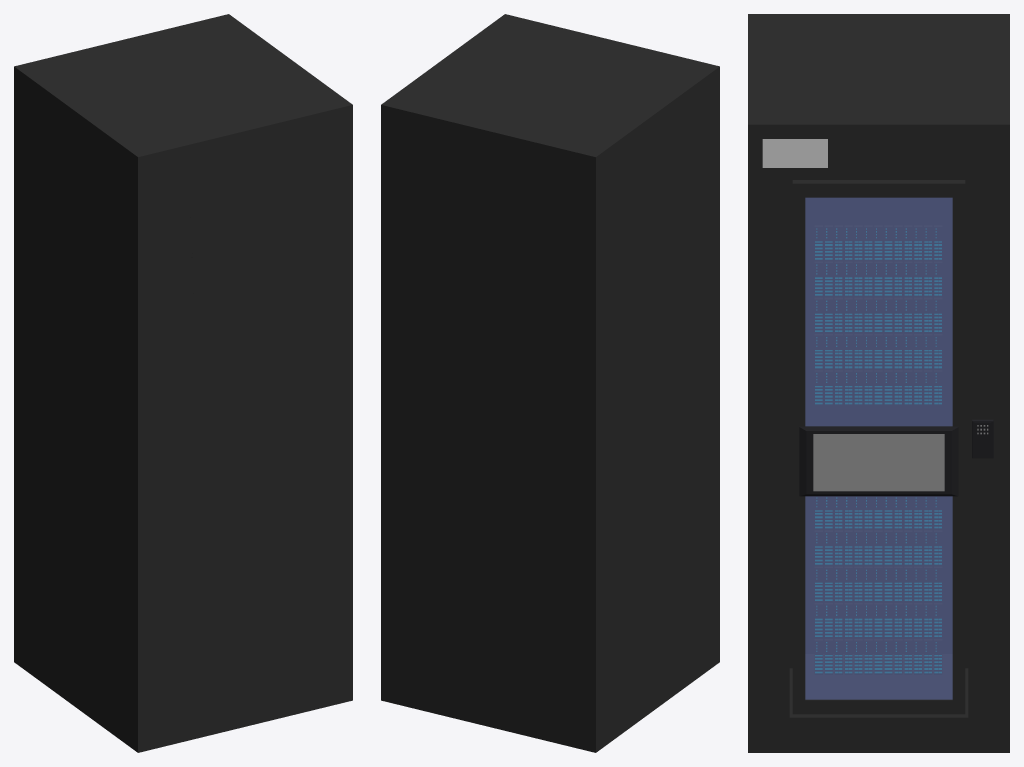
The model's file is datacenter-rack-configurator.glb.
3 renders of one model, left to right at view 1: azimuth 30°, elevation 25°; view 2: azimuth 150°, elevation 25°; view 3: azimuth 270°, elevation 25°, orthographic. The views are drawn at different scales.
Parts seen in each view (by area): view 1: left-side-rack, back-side-rack, top-side-rack; view 2: right-side-rack, back-side-rack, top-side-rack; view 3: front-side-rack, glass, servers-units, top-side-rack, display-rack, logo-rack, access-point.
Boxes of the visible parts, <box> form: left-side-rack: <box>138,105,352,752</box>; back-side-rack: <box>14,66,137,752</box>; top-side-rack: <box>14,14,352,156</box>; right-side-rack: <box>381,105,595,752</box>; back-side-rack: <box>596,66,719,752</box>; top-side-rack: <box>381,14,719,156</box>; front-side-rack: <box>748,124,1009,752</box>; glass: <box>805,197,952,699</box>; servers-units: <box>815,225,941,674</box>; top-side-rack: <box>748,14,1009,124</box>; display-rack: <box>799,426,958,496</box>; logo-rack: <box>762,139,827,167</box>; access-point: <box>972,419,993,458</box>.
Bounding box in the file's own units: 2.02 × 5.3 × 2.
